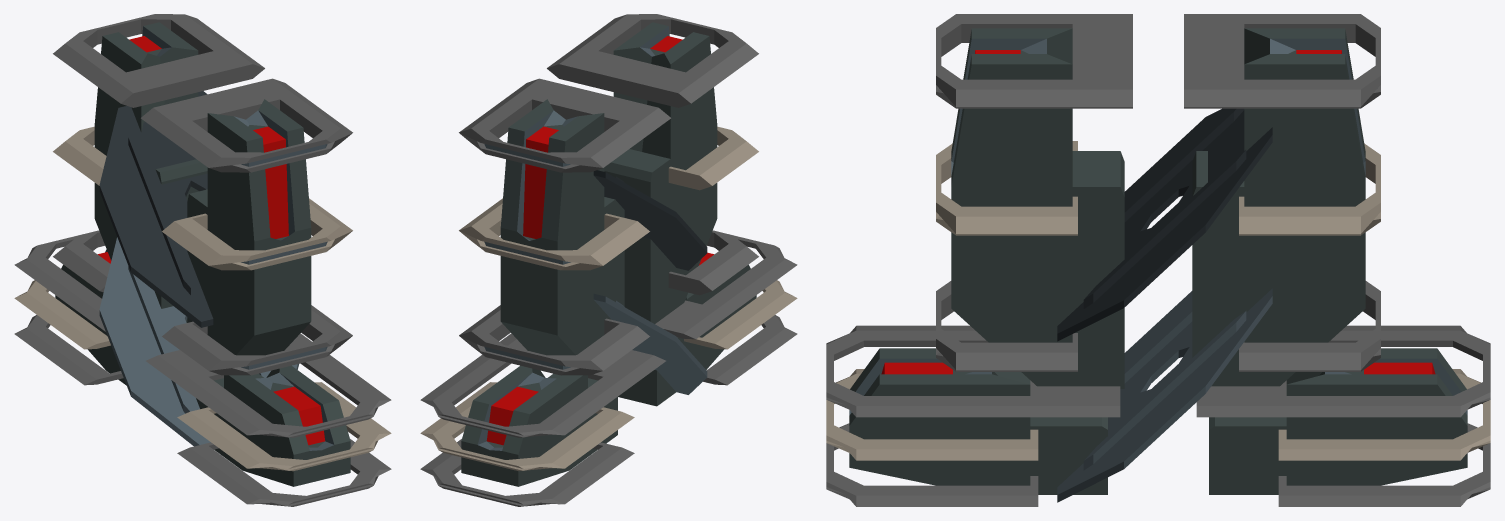
3 views of the same model, side by side, from view 1: azimuth 30°, elevation 25°; view 2: azimuth 150°, elevation 25°; view 3: azimuth 270°, elevation 25° (orthographic). The views are drawn at different scales.
Visible parts, largest first — view 1: 154; view 2: 154; view 3: 154.
Boxes of the visible parts, x1,y1,x2,y2 form: 154: [14, 14, 391, 506]; 154: [420, 14, 797, 506]; 154: [826, 14, 1490, 506].
Size of the model in its own units: 3565 by 6636 by 9280.
